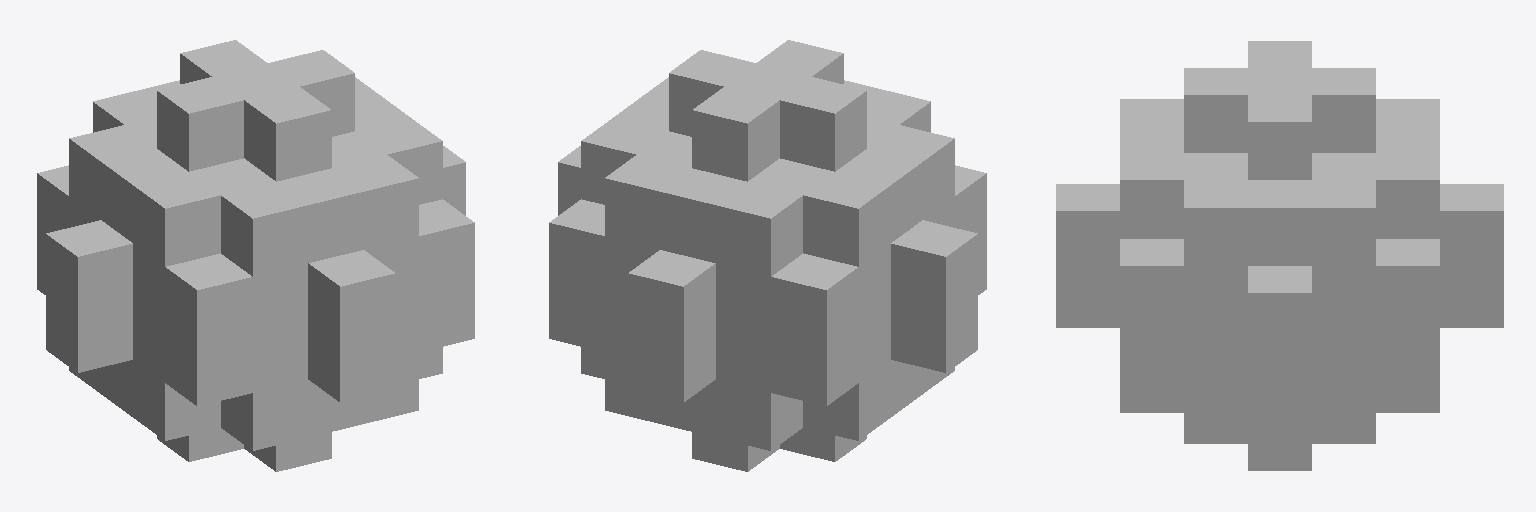
The model's file is Crystal.obj.
The picture shows the model from 3 angles: view 1: azimuth 30°, elevation 25°; view 2: azimuth 150°, elevation 25°; view 3: azimuth 270°, elevation 25°; orthographic projection.
Visible parts, largest first — view 1: Crystal; view 2: Crystal; view 3: Crystal.
Part boxes in pixels (left/top/right/bottom): Crystal: left=37, top=40, right=474, bottom=471; Crystal: left=549, top=40, right=986, bottom=471; Crystal: left=1056, top=41, right=1503, bottom=470.
Size of the model in its own units: 7 by 6 by 7.